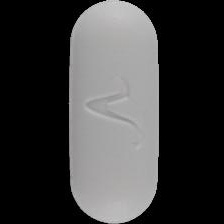16590-581: (0, 0, 224, 224)
